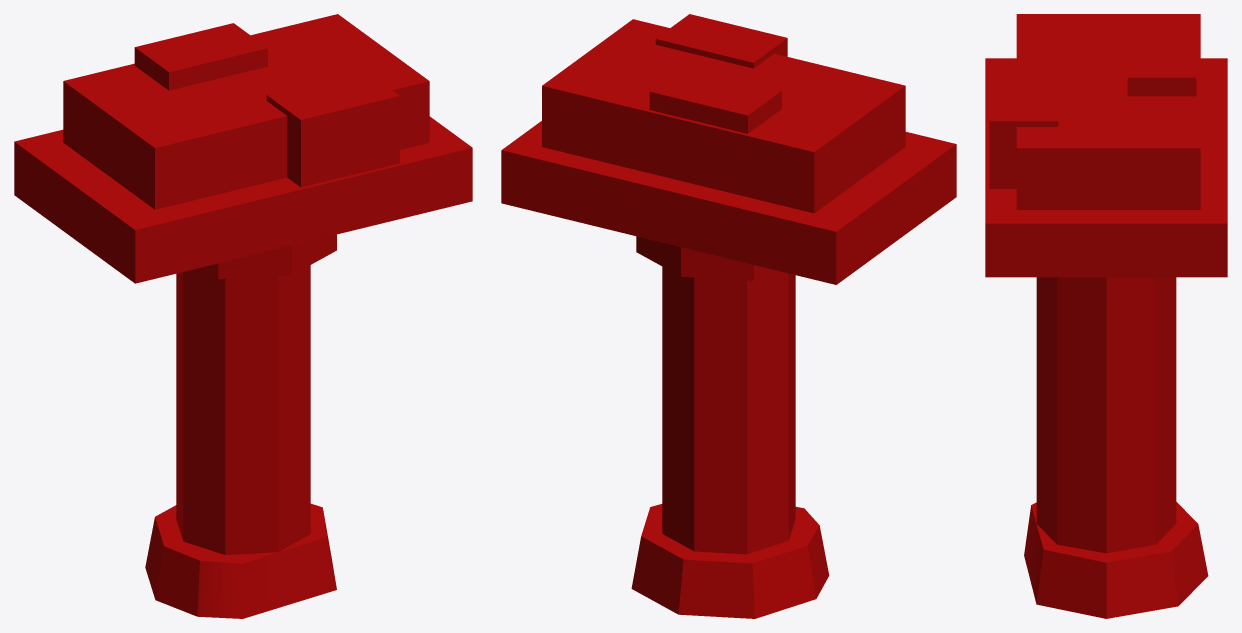
The model's file is SM_Bld_Giant_Column_01_Collision.gltf.
3 views of the same model, side by side, from view 1: azimuth 30°, elevation 25°; view 2: azimuth 150°, elevation 25°; view 3: azimuth 270°, elevation 25° (orthographic).
Parts seen in each view (by area): view 1: SM_Bld_Giant_Column_01_Collision; view 2: SM_Bld_Giant_Column_01_Collision; view 3: SM_Bld_Giant_Column_01_Collision.
Boxes of the visible parts, x1=… form: SM_Bld_Giant_Column_01_Collision: x1=14, y1=14, x2=472, y2=618; SM_Bld_Giant_Column_01_Collision: x1=501, y1=14, x2=956, y2=618; SM_Bld_Giant_Column_01_Collision: x1=985, y1=14, x2=1227, y2=618.
Size of the model in its own units: 7.92 by 11.56 by 4.92.
